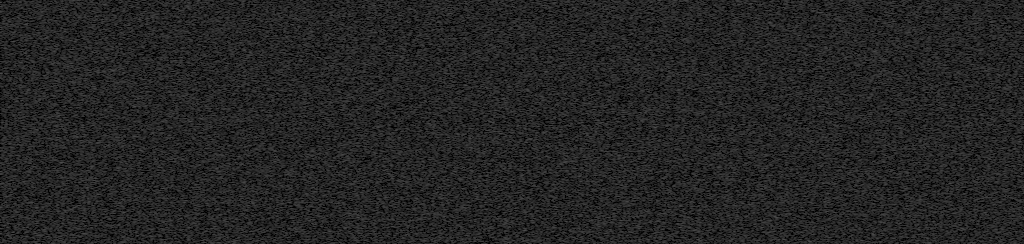wv_am: (230, 0, 235, 244), (580, 0, 585, 244)
wv_cw: (663, 0, 669, 244), (939, 0, 943, 244)
wv_usb: (962, 85, 969, 244), (126, 85, 133, 223), (951, 16, 958, 96), (126, 1, 133, 80), (962, 2, 969, 80), (951, 113, 958, 182), (952, 182, 958, 221), (952, 222, 958, 244), (127, 225, 132, 244), (952, 2, 956, 15), (952, 103, 956, 112), (952, 97, 956, 102)
wv_wbfm: (354, 116, 446, 244), (329, 0, 441, 67), (354, 77, 438, 114), (789, 151, 833, 170), (800, 21, 835, 44), (784, 26, 816, 44), (808, 157, 848, 170), (783, 151, 814, 165), (772, 26, 797, 43), (370, 70, 428, 77), (802, 88, 818, 109), (803, 197, 819, 211), (785, 198, 800, 212), (822, 218, 838, 231), (783, 218, 799, 231), (777, 151, 794, 163), (803, 218, 818, 231), (828, 26, 845, 37), (824, 198, 838, 211), (783, 88, 798, 100), (822, 88, 837, 100), (803, 110, 817, 121), (801, 126, 818, 135), (823, 110, 836, 121), (784, 110, 797, 121), (820, 50, 840, 57), (801, 50, 821, 57), (782, 50, 801, 57), (823, 38, 845, 44), (823, 126, 838, 134), (784, 126, 799, 134), (824, 67, 836, 76), (804, 67, 816, 76), (785, 67, 797, 76), (765, 89, 776, 98), (769, 201, 779, 210), (843, 89, 853, 98), (802, 146, 819, 151), (847, 201, 856, 210), (820, 21, 836, 26), (781, 21, 797, 26), (826, 101, 837, 108), (787, 101, 798, 108), (814, 44, 833, 48), (823, 83, 838, 88), (803, 83, 818, 88), (784, 83, 799, 88), (795, 44, 813, 48), (804, 212, 816, 218), (770, 165, 784, 170), (844, 127, 854, 134), (766, 127, 776, 134), (824, 212, 835, 218), (785, 212, 796, 218), (806, 59, 819, 64), (436, 88, 444, 96), (826, 59, 838, 64), (787, 59, 799, 64), (352, 135, 362, 141), (801, 237, 813, 242), (826, 231, 837, 236), (806, 231, 817, 236), (787, 231, 798, 236), (844, 70, 853, 76), (800, 3, 817, 6), (804, 77, 816, 81), (842, 22, 854, 26), (764, 22, 776, 26), (802, 8, 818, 11), (820, 3, 836, 6), (781, 3, 797, 6), (815, 186, 831, 189), (796, 186, 812, 189), (822, 8, 837, 11), (783, 8, 798, 11), (431, 70, 440, 75), (353, 70, 362, 75), (796, 183, 811, 186), (846, 231, 855, 236), (824, 77, 835, 81), (785, 77, 796, 81), (828, 147, 839, 151), (789, 147, 800, 151), (804, 122, 815, 126), (352, 187, 359, 193), (822, 194, 836, 197), (802, 194, 816, 197), (783, 194, 797, 197), (816, 183, 830, 186), (823, 171, 837, 174), (803, 171, 817, 174), (784, 171, 798, 174), (769, 231, 777, 236), (824, 122, 834, 126), (785, 122, 795, 126), (842, 50, 851, 54), (764, 50, 773, 54), (806, 189, 818, 192), (801, 176, 813, 179), (807, 141, 819, 144), (847, 221, 854, 226), (769, 221, 776, 226), (783, 45, 794, 48), (843, 194, 854, 197), (765, 194, 776, 197), (826, 189, 837, 192), (806, 180, 817, 183), (821, 176, 832, 179), (782, 176, 793, 179), (763, 152, 774, 155), (827, 141, 838, 144), (788, 141, 799, 144), (846, 227, 854, 231), (768, 227, 776, 231), (351, 172, 359, 176), (347, 162, 355, 166), (760, 158, 768, 162), (849, 147, 857, 151), (771, 147, 779, 151), (844, 122, 852, 126), (766, 122, 774, 126), (808, 12, 818, 15), (822, 239, 832, 242), (783, 239, 793, 242), (826, 180, 836, 183), (787, 180, 797, 183), (841, 152, 851, 155), (843, 110, 849, 115), (765, 110, 771, 115), (849, 83, 856, 87), (771, 83, 778, 87), (845, 78, 854, 81), (767, 78, 776, 81), (766, 70, 775, 73), (842, 45, 851, 48), (764, 45, 773, 48), (828, 12, 837, 15), (789, 12, 798, 15), (808, 0, 817, 3), (842, 176, 851, 179), (764, 176, 773, 179), (845, 171, 854, 174), (848, 167, 857, 170), (828, 0, 836, 3), (789, 0, 797, 3), (438, 39, 446, 42), (847, 180, 855, 183), (769, 180, 777, 183), (768, 171, 776, 174), (849, 104, 855, 108), (771, 104, 777, 108), (846, 59, 853, 62), (768, 59, 775, 62), (848, 0, 855, 3), (770, 0, 777, 3), (350, 218, 357, 221), (769, 73, 775, 76), (849, 12, 855, 15), (771, 12, 777, 15), (352, 208, 358, 211), (352, 127, 358, 130), (348, 91, 354, 94), (847, 215, 853, 218), (769, 215, 775, 218), (845, 198, 851, 201), (767, 198, 773, 201), (848, 118, 854, 121), (770, 118, 776, 121), (849, 115, 855, 118), (771, 115, 777, 118), (353, 237, 358, 240), (351, 145, 356, 148), (436, 98, 441, 101), (349, 95, 354, 98)
